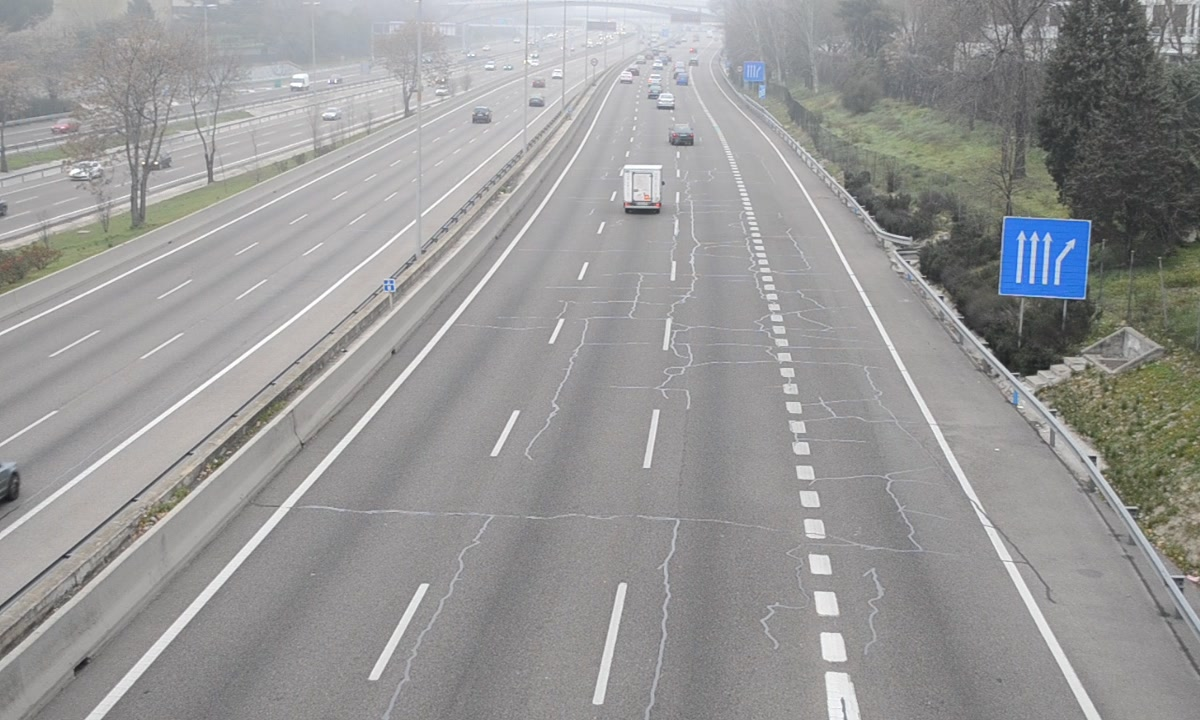car: (666, 121, 695, 147)
small-truck: (620, 164, 663, 212)
